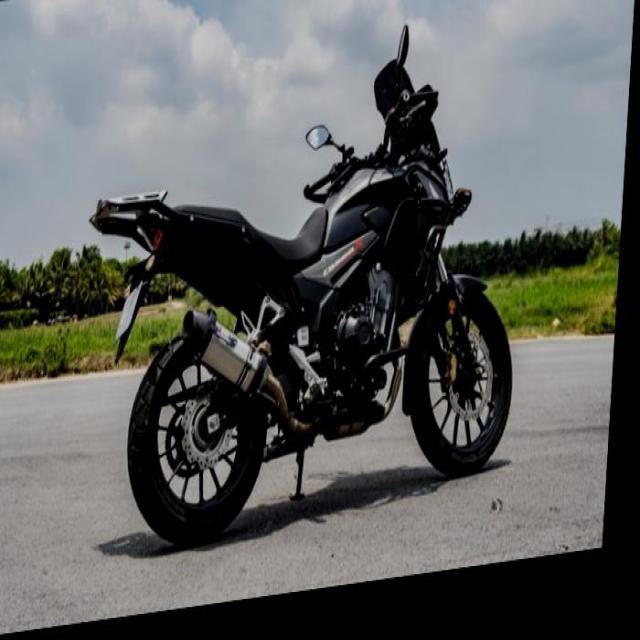CB500X: (127, 53, 536, 562)
